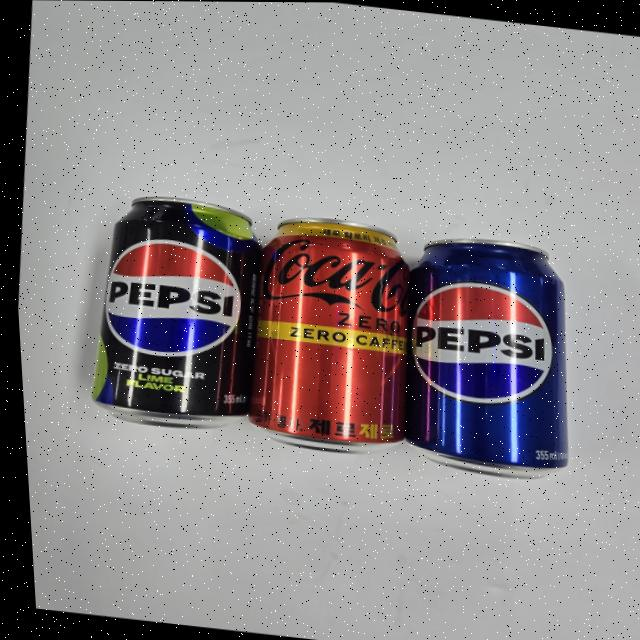can_coke_decaf: (241, 216, 417, 456)
can_pepsi: (407, 238, 572, 480)
can_pepsi_zero: (85, 198, 268, 434)
